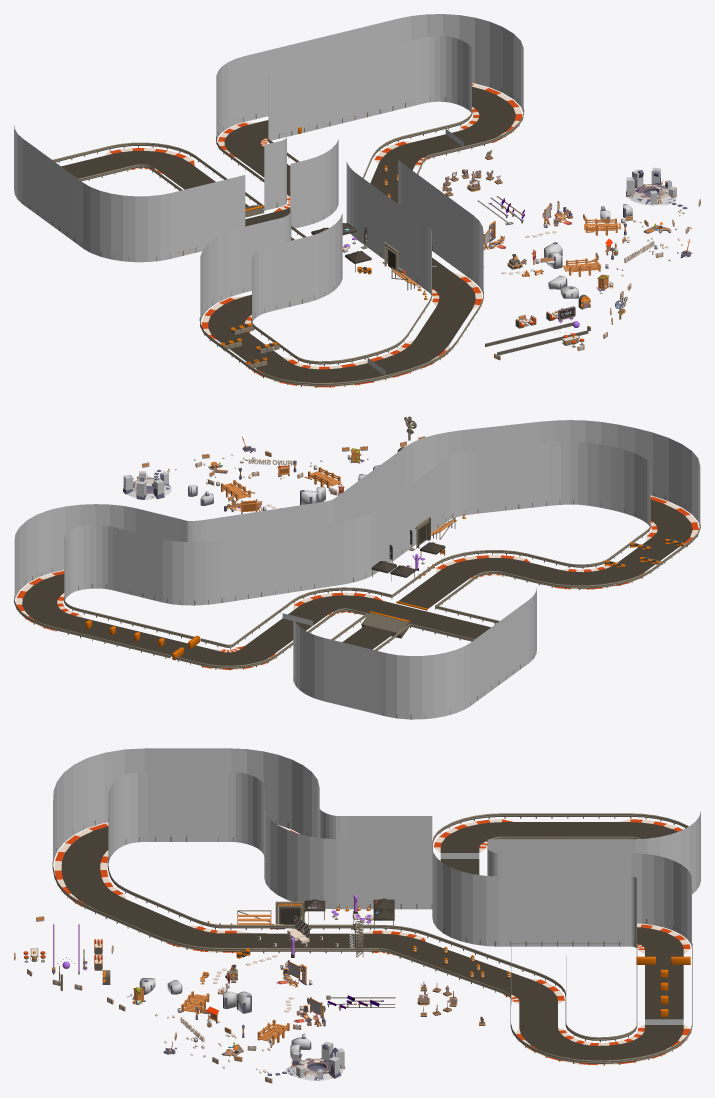
Rendered from areas.glb.
The picture shows the model from 3 angles, top to bottom: view 1: azimuth 30°, elevation 25°; view 2: azimuth 150°, elevation 25°; view 3: azimuth 270°, elevation 25°; orthographic projection. The views are drawn at different scales.
Visible parts, largest first — view 1: trimesh, refCircuitRoadPhysicalFixed.001, refCircuitRailsPhysicalFixed, curveBumpers, refBowlingBumpersPhysicalKinematicPositionBased; view 2: trimesh, refCircuitRoadPhysicalFixed.001, refCircuitRailsPhysicalFixed, curveBumpers, jump; view 3: trimesh, refCircuitRoadPhysicalFixed.001, refCircuitRailsPhysicalFixed, curveBumpers.
Part boxes in pixels (bbox=[...]): trimesh: bbox=[14, 14, 523, 321]; refCircuitRoadPhysicalFixed.001: bbox=[61, 86, 515, 382]; refCircuitRailsPhysicalFixed: bbox=[22, 80, 524, 387]; curveBumpers: bbox=[104, 83, 522, 387]; refBowlingBumpersPhysicalKinematicPositionBased: bbox=[485, 322, 588, 355]; trimesh: bbox=[14, 420, 700, 719]; refCircuitRoadPhysicalFixed.001: bbox=[22, 499, 692, 665]; refCircuitRailsPhysicalFixed: bbox=[14, 492, 700, 719]; curveBumpers: bbox=[16, 496, 698, 669]; jump: bbox=[361, 612, 409, 638]; trimesh: bbox=[53, 748, 700, 1023]; refCircuitRoadPhysicalFixed.001: bbox=[61, 822, 683, 1060]; refCircuitRailsPhysicalFixed: bbox=[52, 813, 692, 1065]; curveBumpers: bbox=[54, 819, 690, 1065].
Size of the model in its own units: 162 by 22.55 by 177.
Materials: 46 (17 with a texture image).
